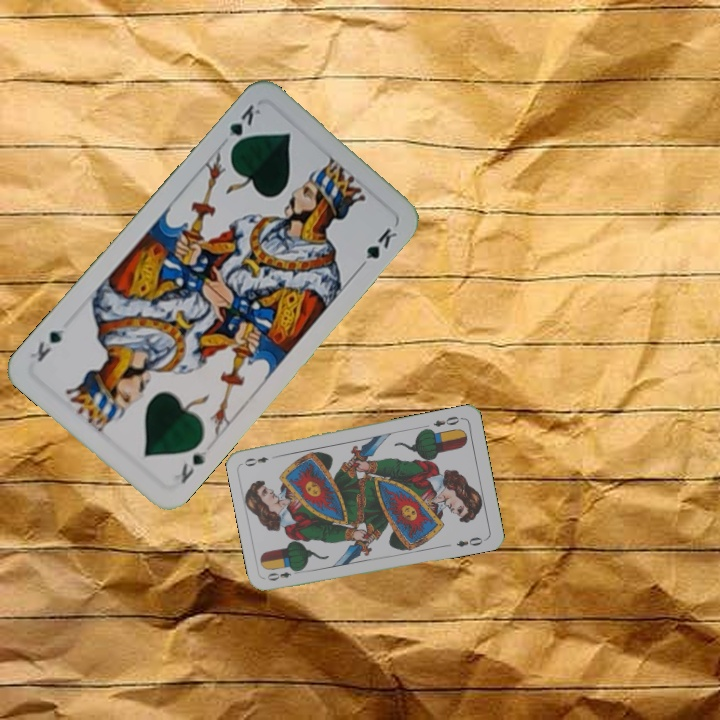EO: (263, 565, 303, 583), (429, 412, 465, 429)
GK: (217, 100, 264, 153), (176, 444, 212, 486)
